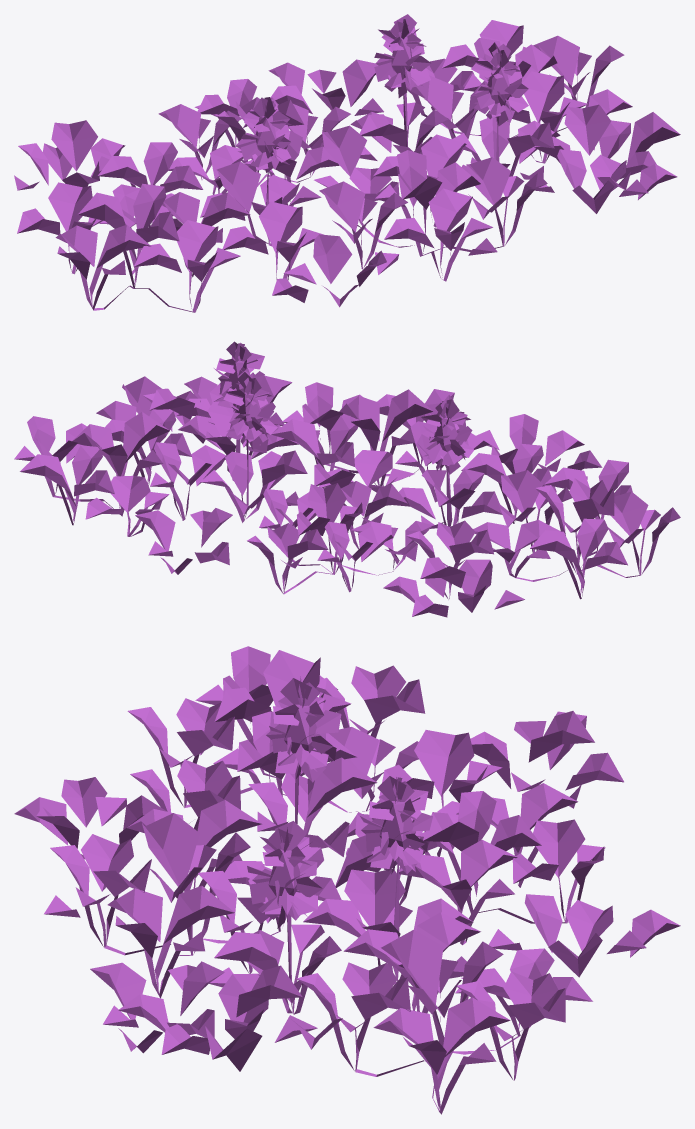
Rendered from zone3-c11.glb.
The picture shows the model from 3 angles, top to bottom: view 1: azimuth 30°, elevation 25°; view 2: azimuth 150°, elevation 25°; view 3: azimuth 270°, elevation 25°; orthographic projection. The views are drawn at different scales.
Parts seen in each view (by area): view 1: waterplant-hyacinth-water-clump-a.001; view 2: waterplant-hyacinth-water-clump-a.001; view 3: waterplant-hyacinth-water-clump-a.001.
Part boxes in pixels (x1,y1,x2,y2): waterplant-hyacinth-water-clump-a.001: (14,14,680,312); waterplant-hyacinth-water-clump-a.001: (14,341,680,617); waterplant-hyacinth-water-clump-a.001: (14,646,680,1114).
Size of the model in its own units: 99.33 by 25.85 by 70.03.
